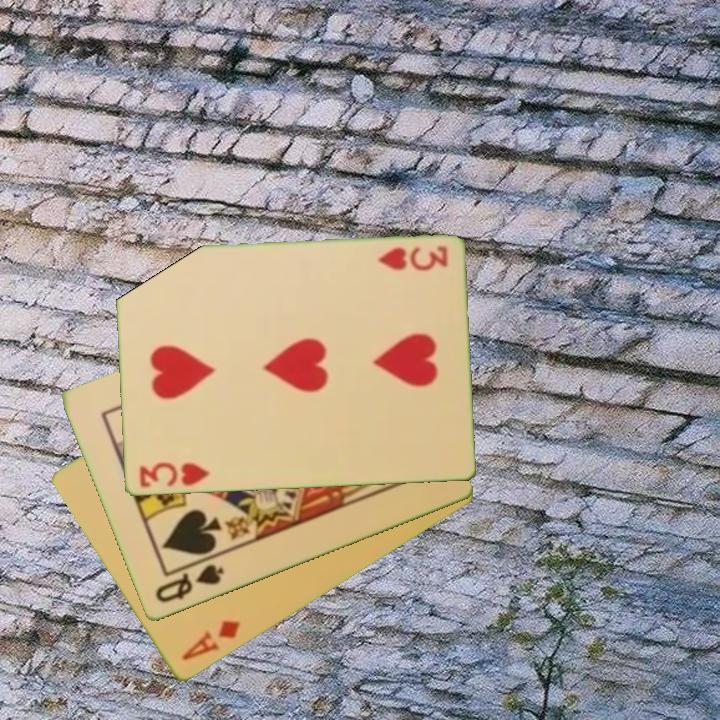3h: (135, 459, 213, 491), (374, 243, 450, 273)
Ad: (178, 617, 243, 665)
Qs: (151, 561, 227, 607)
